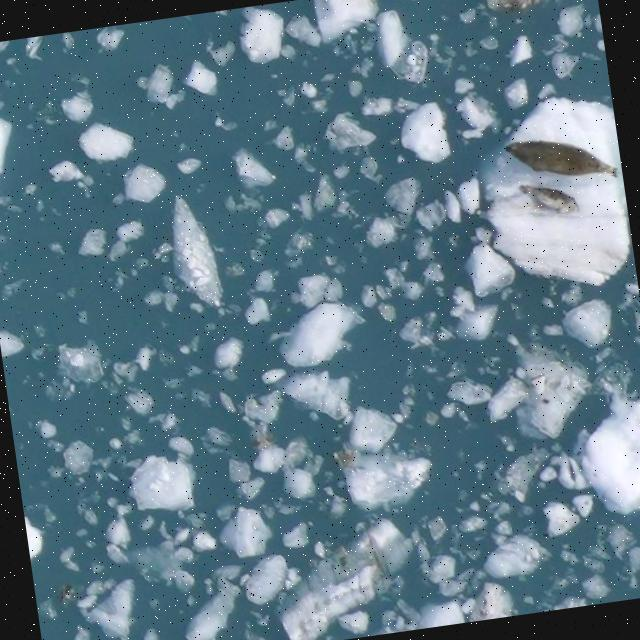seal: (503, 136, 621, 183), (518, 185, 578, 214)
